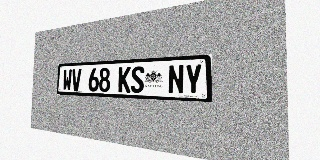6: (88, 68, 99, 92)
8: (99, 67, 110, 92)
K: (118, 67, 131, 93)
N: (168, 64, 184, 94)
S: (131, 66, 144, 93)
V: (72, 69, 81, 91)
W: (63, 69, 72, 91)
Y: (185, 64, 202, 95)
